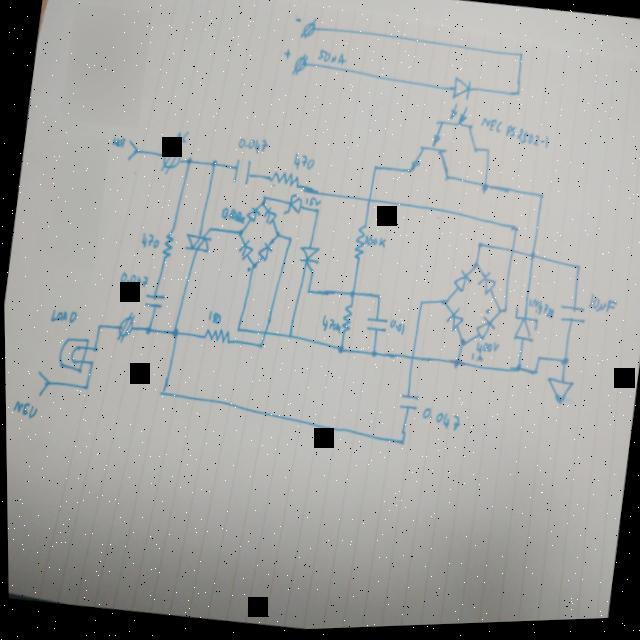capacitor: (556, 304, 585, 333), (230, 159, 252, 186), (363, 315, 386, 338), (396, 392, 417, 416), (142, 290, 164, 311)
crossover: (506, 248, 515, 258), (407, 354, 414, 364), (260, 329, 267, 338), (364, 196, 371, 205)
diode: (508, 306, 539, 346), (471, 317, 494, 344), (442, 308, 464, 335), (474, 273, 496, 299), (281, 193, 302, 218), (450, 271, 471, 296), (236, 238, 253, 263), (242, 205, 261, 226), (255, 241, 272, 264), (260, 206, 277, 227)
ground: (541, 377, 573, 410)
junction: (479, 182, 489, 197), (450, 359, 460, 372), (558, 359, 568, 371), (208, 158, 218, 169), (508, 225, 518, 236), (168, 326, 177, 338), (157, 386, 166, 398), (334, 345, 343, 357), (457, 339, 466, 350), (512, 365, 521, 376), (346, 290, 355, 300), (249, 260, 257, 271), (184, 156, 192, 167), (144, 323, 151, 335), (256, 341, 263, 352), (236, 228, 243, 239), (397, 438, 404, 449), (441, 298, 448, 309), (527, 253, 534, 264), (80, 382, 88, 391), (284, 332, 292, 341), (373, 294, 381, 303), (368, 349, 375, 359), (272, 230, 279, 240), (416, 299, 423, 309), (86, 357, 93, 366), (233, 325, 240, 334), (258, 201, 265, 210), (260, 194, 267, 203), (471, 263, 478, 272), (573, 266, 580, 275), (530, 370, 537, 379), (537, 193, 544, 202), (483, 148, 490, 157), (516, 54, 523, 63), (312, 207, 319, 216), (89, 344, 96, 352), (494, 309, 501, 317), (513, 92, 520, 100), (95, 320, 101, 329), (501, 308, 507, 317), (371, 164, 377, 173), (475, 243, 481, 251), (534, 357, 540, 364), (304, 288, 309, 296), (286, 236, 291, 244)
resistor: (267, 170, 299, 191), (201, 325, 230, 346), (350, 225, 366, 262), (159, 229, 174, 261), (338, 304, 352, 336)
terminal: (33, 368, 49, 397), (291, 54, 308, 79), (298, 18, 316, 41), (124, 139, 139, 161)
text: (477, 118, 550, 155), (418, 407, 460, 434), (586, 295, 616, 319), (525, 299, 554, 323), (234, 136, 268, 156), (117, 270, 147, 291), (315, 49, 345, 68), (218, 206, 245, 226), (291, 152, 315, 174), (10, 398, 36, 418), (48, 306, 76, 324), (319, 314, 341, 336), (361, 235, 386, 252), (139, 230, 159, 251), (473, 342, 497, 359), (386, 319, 404, 338), (172, 129, 188, 146), (205, 310, 221, 326), (111, 135, 126, 149), (303, 197, 320, 209), (468, 353, 481, 365)
thyristor: (293, 246, 322, 278)
transistor: (407, 145, 451, 186)
